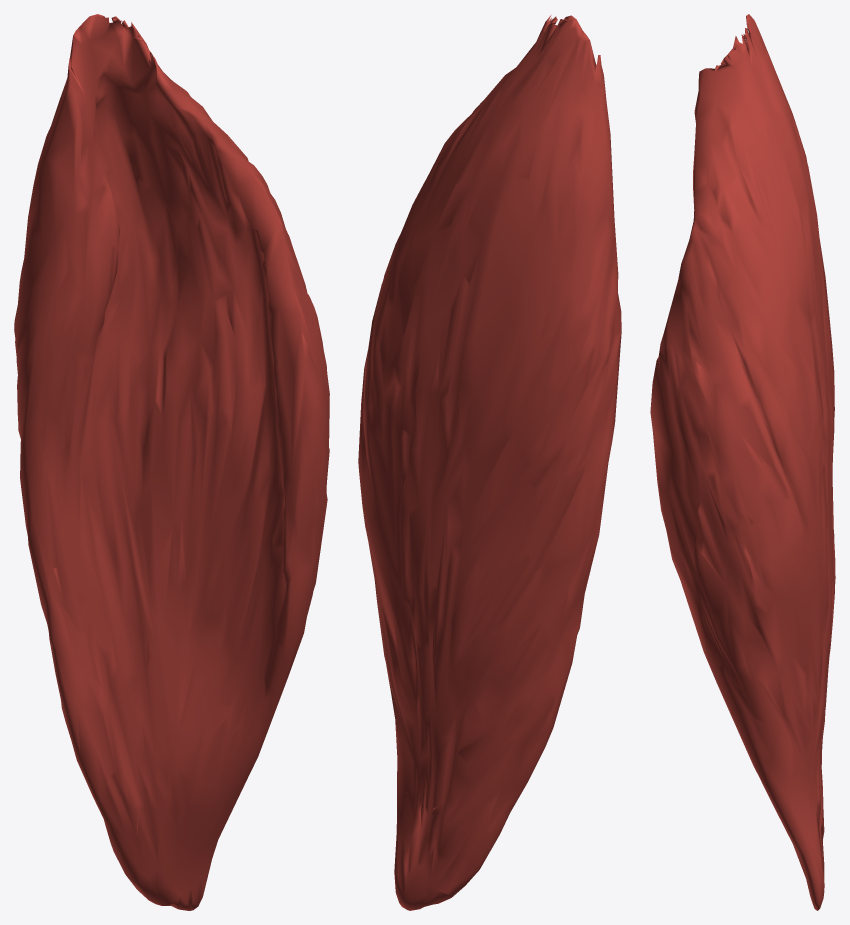
File: musculos-soleus-muscle-r.glb
3 renders of one model, left to right at view 1: azimuth 30°, elevation 25°; view 2: azimuth 150°, elevation 25°; view 3: azimuth 270°, elevation 25°, orthographic. The views are drawn at different scales.
Parts seen in each view (by area): view 1: Soleus muscle.r; view 2: Soleus muscle.r; view 3: Soleus muscle.r.
Boxes of the visible parts, x1,y1,x2,y2 form: Soleus muscle.r: [14, 14, 329, 910]; Soleus muscle.r: [358, 15, 621, 910]; Soleus muscle.r: [650, 14, 835, 910].
Bounding box in the file's own units: 0.0851 × 0.2758 × 0.0552.
